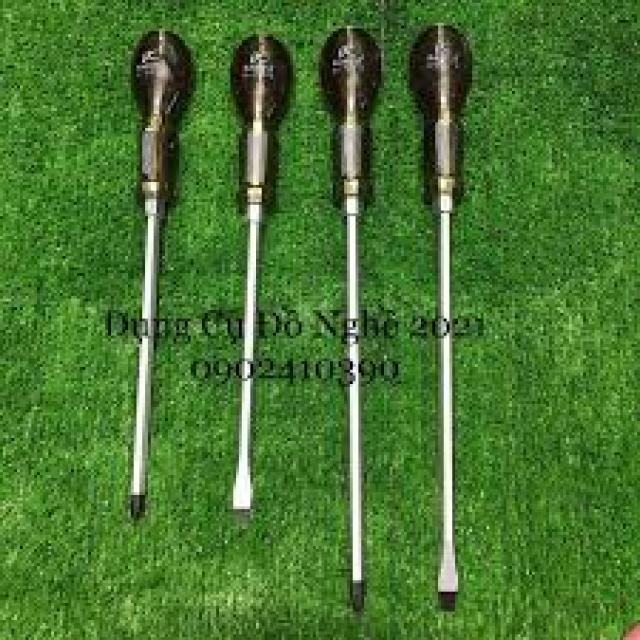screwdriver: (404, 18, 475, 610), (318, 21, 386, 613), (224, 29, 298, 518), (124, 22, 195, 524)
